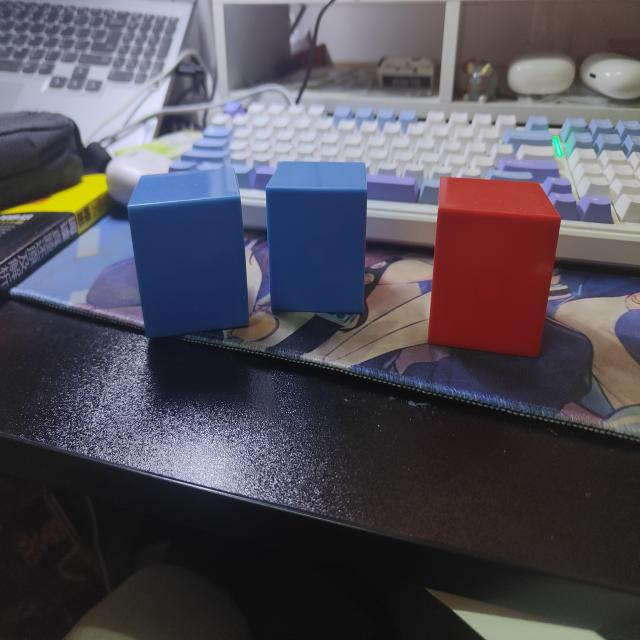blue: (127, 166, 249, 338), (265, 160, 368, 320)
red: (426, 176, 561, 360)
